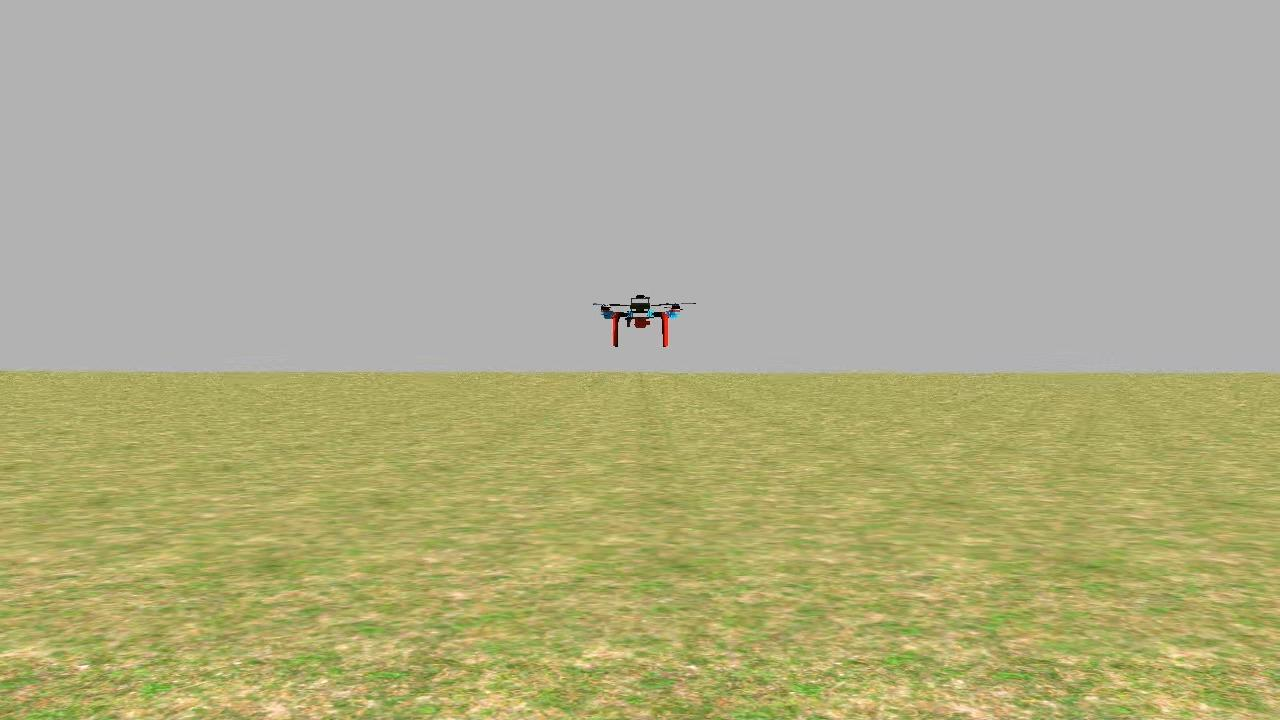UAV: (594, 281, 688, 351)
